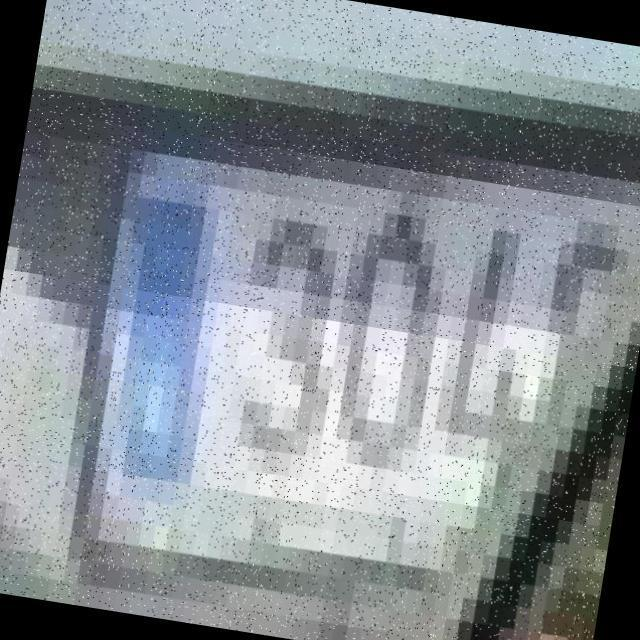License Plate: (26, 68, 634, 640)
